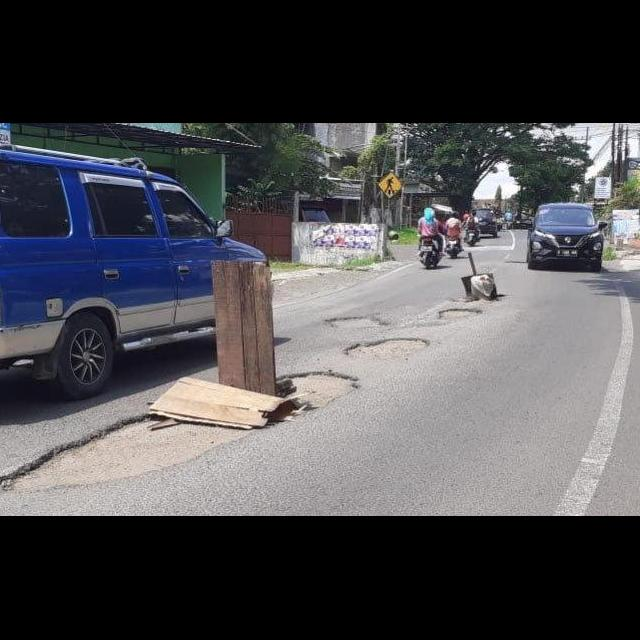lubang_kecil: (0, 411, 254, 487), (280, 367, 363, 421), (335, 330, 433, 360), (318, 308, 394, 335), (432, 300, 485, 327)
